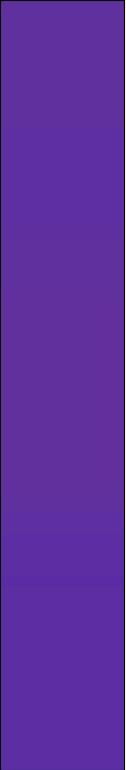safe: (14, 13, 111, 761)
